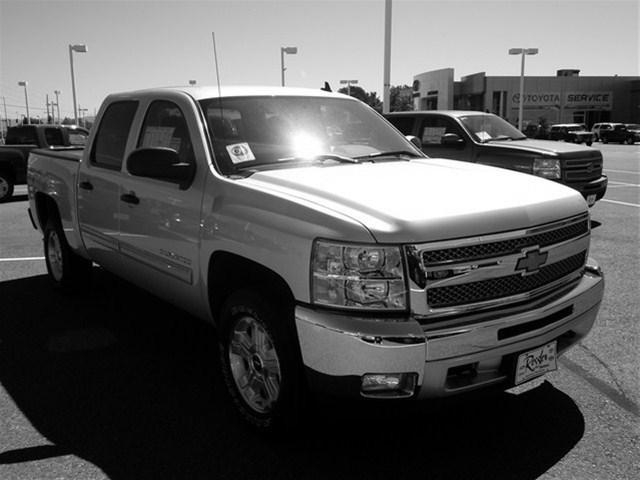car: (23, 81, 606, 423)
